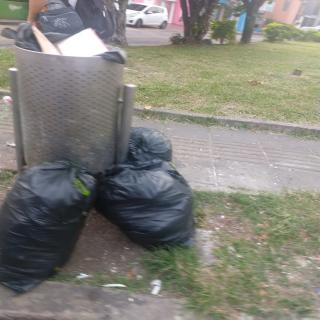Garbage: (0, 156, 105, 294), (99, 162, 200, 251), (124, 124, 174, 167)
